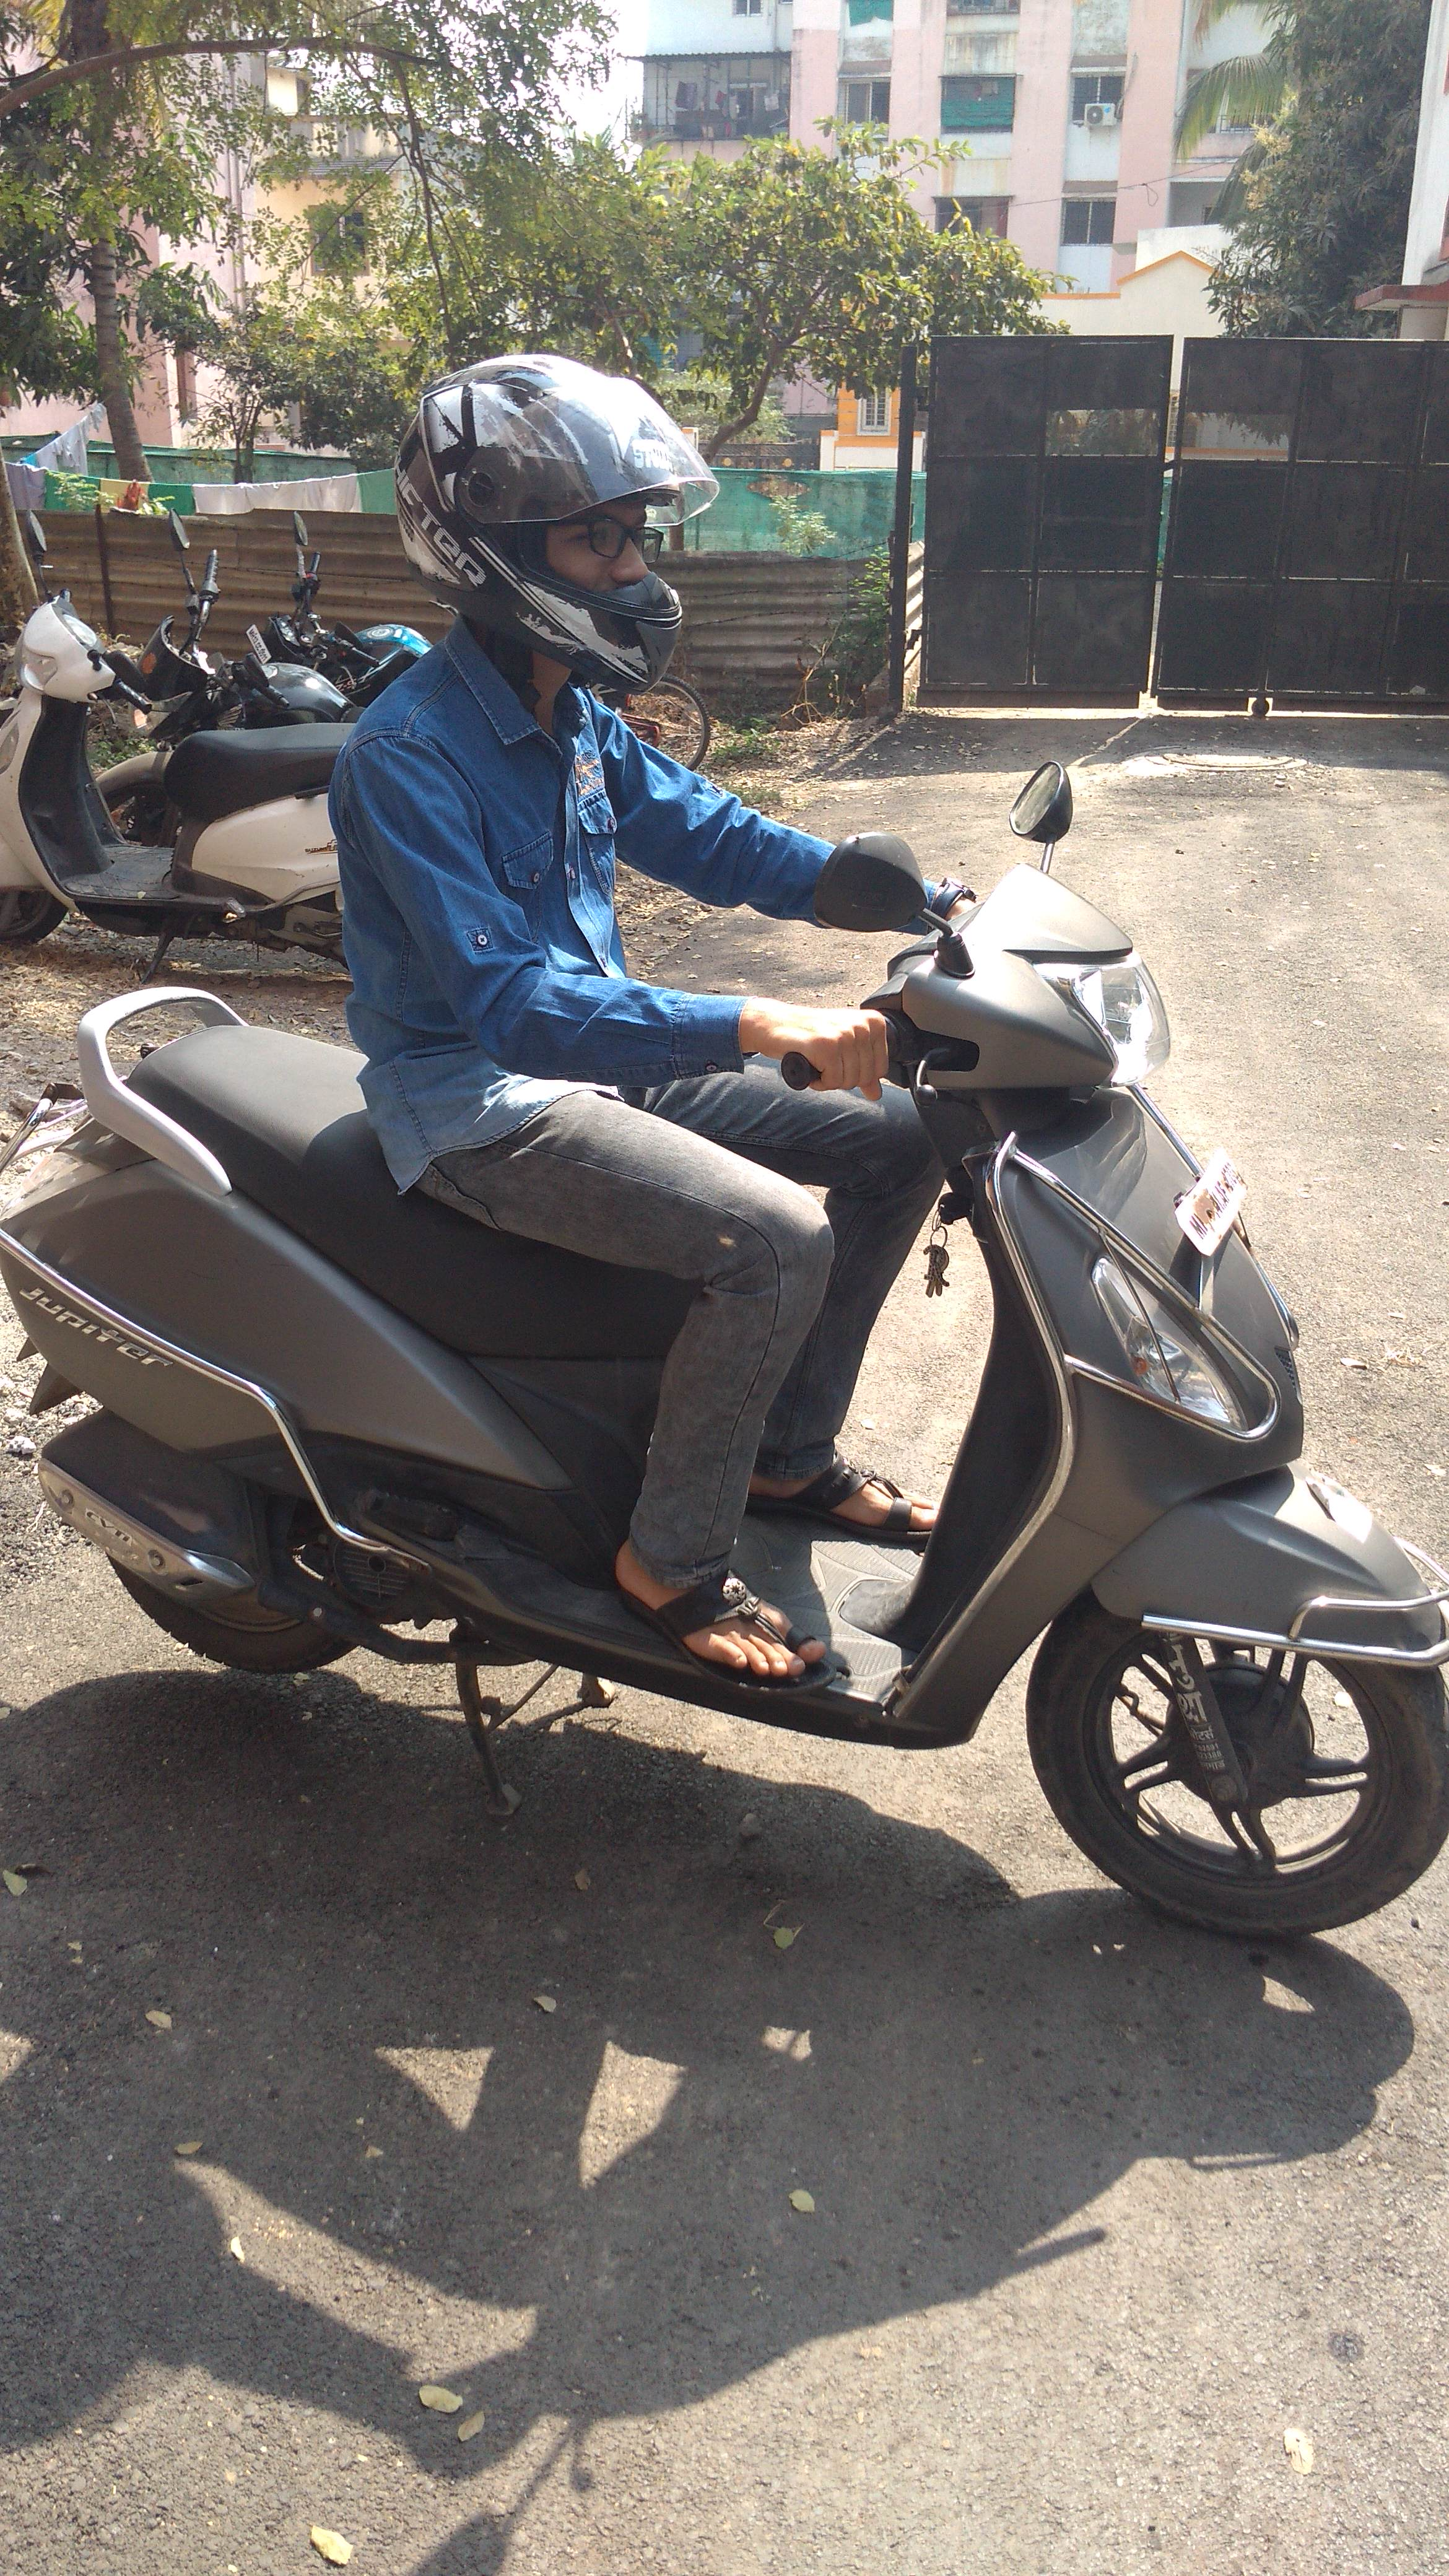helmet: (283, 368, 1030, 1375)
